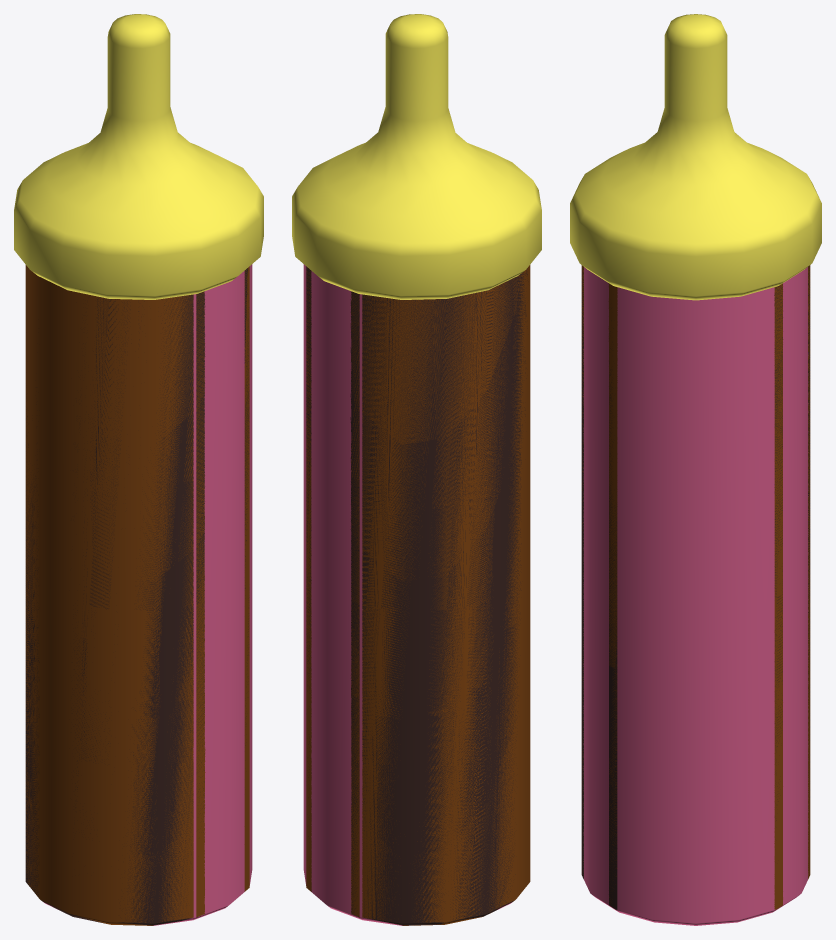
The model's file is alljarabes.fbx.
3 views of the same model, side by side, from view 1: azimuth 30°, elevation 25°; view 2: azimuth 150°, elevation 25°; view 3: azimuth 270°, elevation 25° (orthographic).
Parts seen in each view (by area): view 1: jarabe_caramelo, jarabe_chocolate, jarabe_fresa; view 2: jarabe_caramelo, jarabe_chocolate, jarabe_fresa; view 3: jarabe_fresa, jarabe_caramelo, jarabe_chocolate.
Boxes of the visible parts, left/top/right/bottom form: jarabe_caramelo: left=14, top=14, right=249, bottom=925; jarabe_chocolate: left=14, top=38, right=249, bottom=925; jarabe_fresa: left=21, top=14, right=263, bottom=925; jarabe_caramelo: left=306, top=14, right=541, bottom=925; jarabe_chocolate: left=306, top=33, right=541, bottom=925; jarabe_fresa: left=292, top=14, right=533, bottom=925; jarabe_fresa: left=570, top=14, right=821, bottom=925; jarabe_caramelo: left=570, top=14, right=821, bottom=909; jarabe_chocolate: left=570, top=39, right=821, bottom=909.
Bounding box in the file's own units: 7.62 × 28.64 × 7.62.
